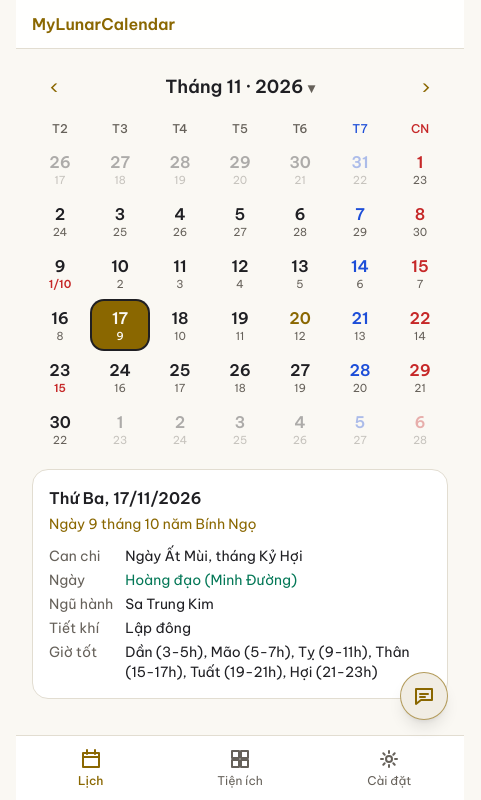
Test case: tab Lịch (CAL-UC01) › lịch tháng có ngày âm, ngày lễ; chạm một ngày xem chi tiết
Check: the heading "Thứ Ba, 17/11/2026" is shown, box [49,488,202,508]
Check: the text "Ngày 9 tháng 10 năm Bính Ngọ" is shown, box [49,515,257,533]
// Ngày Nhà giáo 20/11 có tên lễ
Click the cell "20 12": click(300, 325) [272,301,328,349]
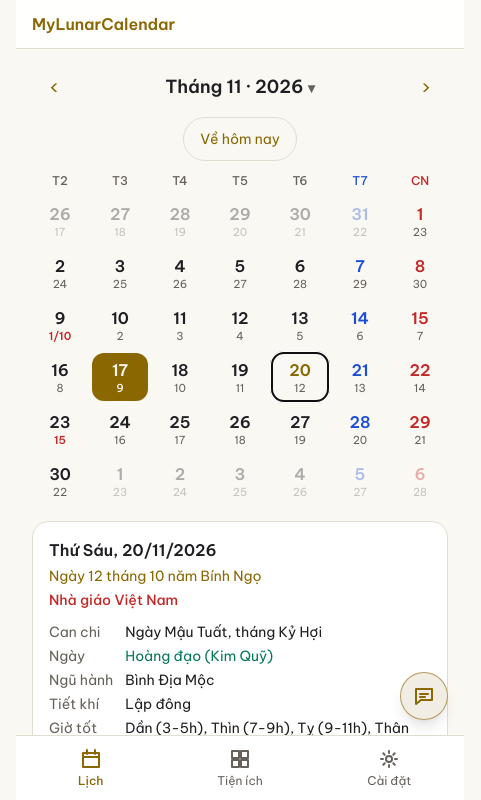
Check: the text "Nhà giáo Việt Nam" is shown, box [49,591,178,609]
Check: the heading "Thứ Sáu, 20/11/2026" is shown, box [49,540,217,560]
